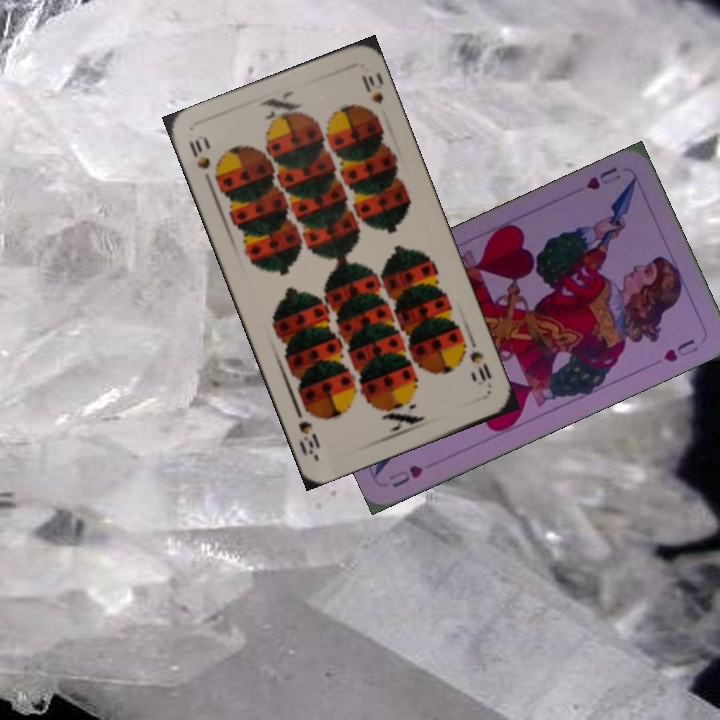HU: (582, 162, 624, 193), (385, 461, 426, 490)
S10: (185, 131, 216, 189), (466, 347, 495, 384)
